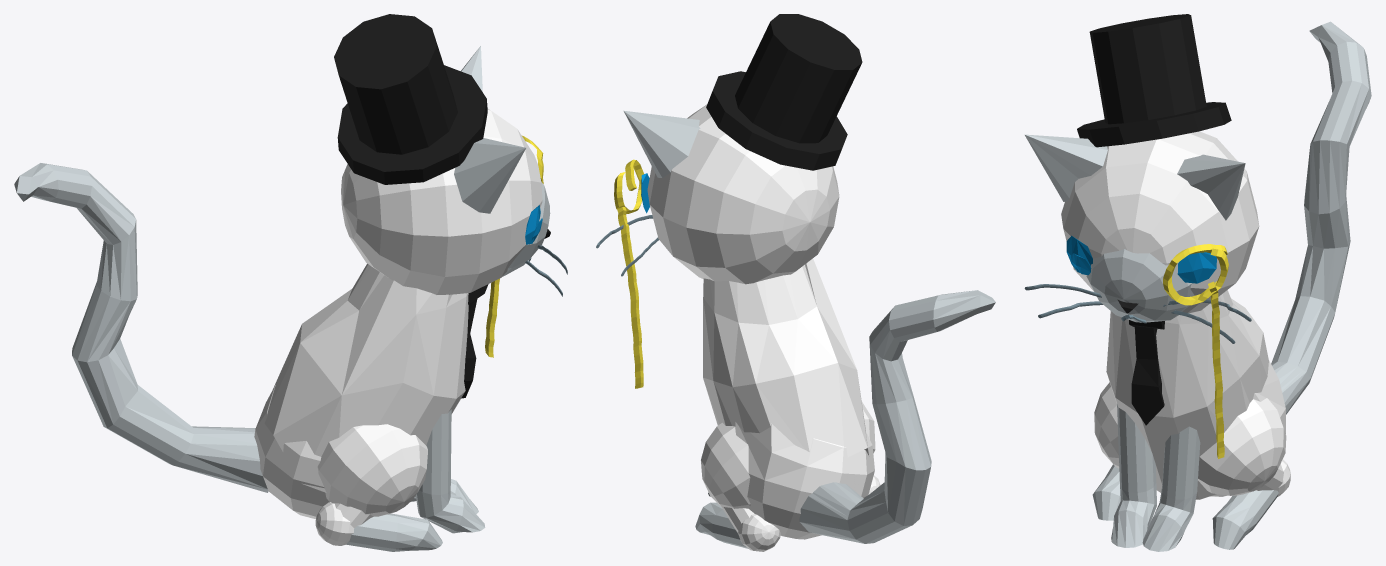
File: Fancy Cat.fbx
3 views of the same model, side by side, from view 1: azimuth 30°, elevation 25°; view 2: azimuth 150°, elevation 25°; view 3: azimuth 270°, elevation 25° (orthographic). The views are drawn at different scales.
Visible parts, largest first — view 1: group_1207554554, mesh_1712038029, mesh_6041946, group_1182857785, group_810580094; view 2: group_1207554554, mesh_1712038029, mesh_6041946, group_810580094, group_1650328937; view 3: group_1207554554, mesh_1712038029, mesh_6041946, group_1182857785, group_1650328937, group_810580094.
Boxes of the visible parts, box(x1,y1,x2,y2) form: group_1207554554: box(14, 46, 567, 551); mesh_1712038029: box(334, 14, 457, 154); mesh_6041946: box(337, 65, 487, 184); group_1182857785: box(461, 299, 477, 398); group_810580094: box(485, 278, 499, 357); group_1207554554: box(596, 104, 995, 551); mesh_1712038029: box(735, 14, 862, 143); mesh_6041946: box(706, 71, 847, 170); group_810580094: box(617, 204, 643, 388); group_1650328937: box(614, 159, 643, 213); group_1207554554: box(1024, 21, 1371, 551); mesh_1712038029: box(1089, 14, 1206, 124); mesh_6041946: box(1077, 102, 1231, 147); group_1182857785: box(1131, 326, 1164, 425); group_1650328937: box(1163, 244, 1228, 305); group_810580094: box(1208, 281, 1224, 458).
Size of the model in its own units: 54.51 by 59.23 by 36.66.
